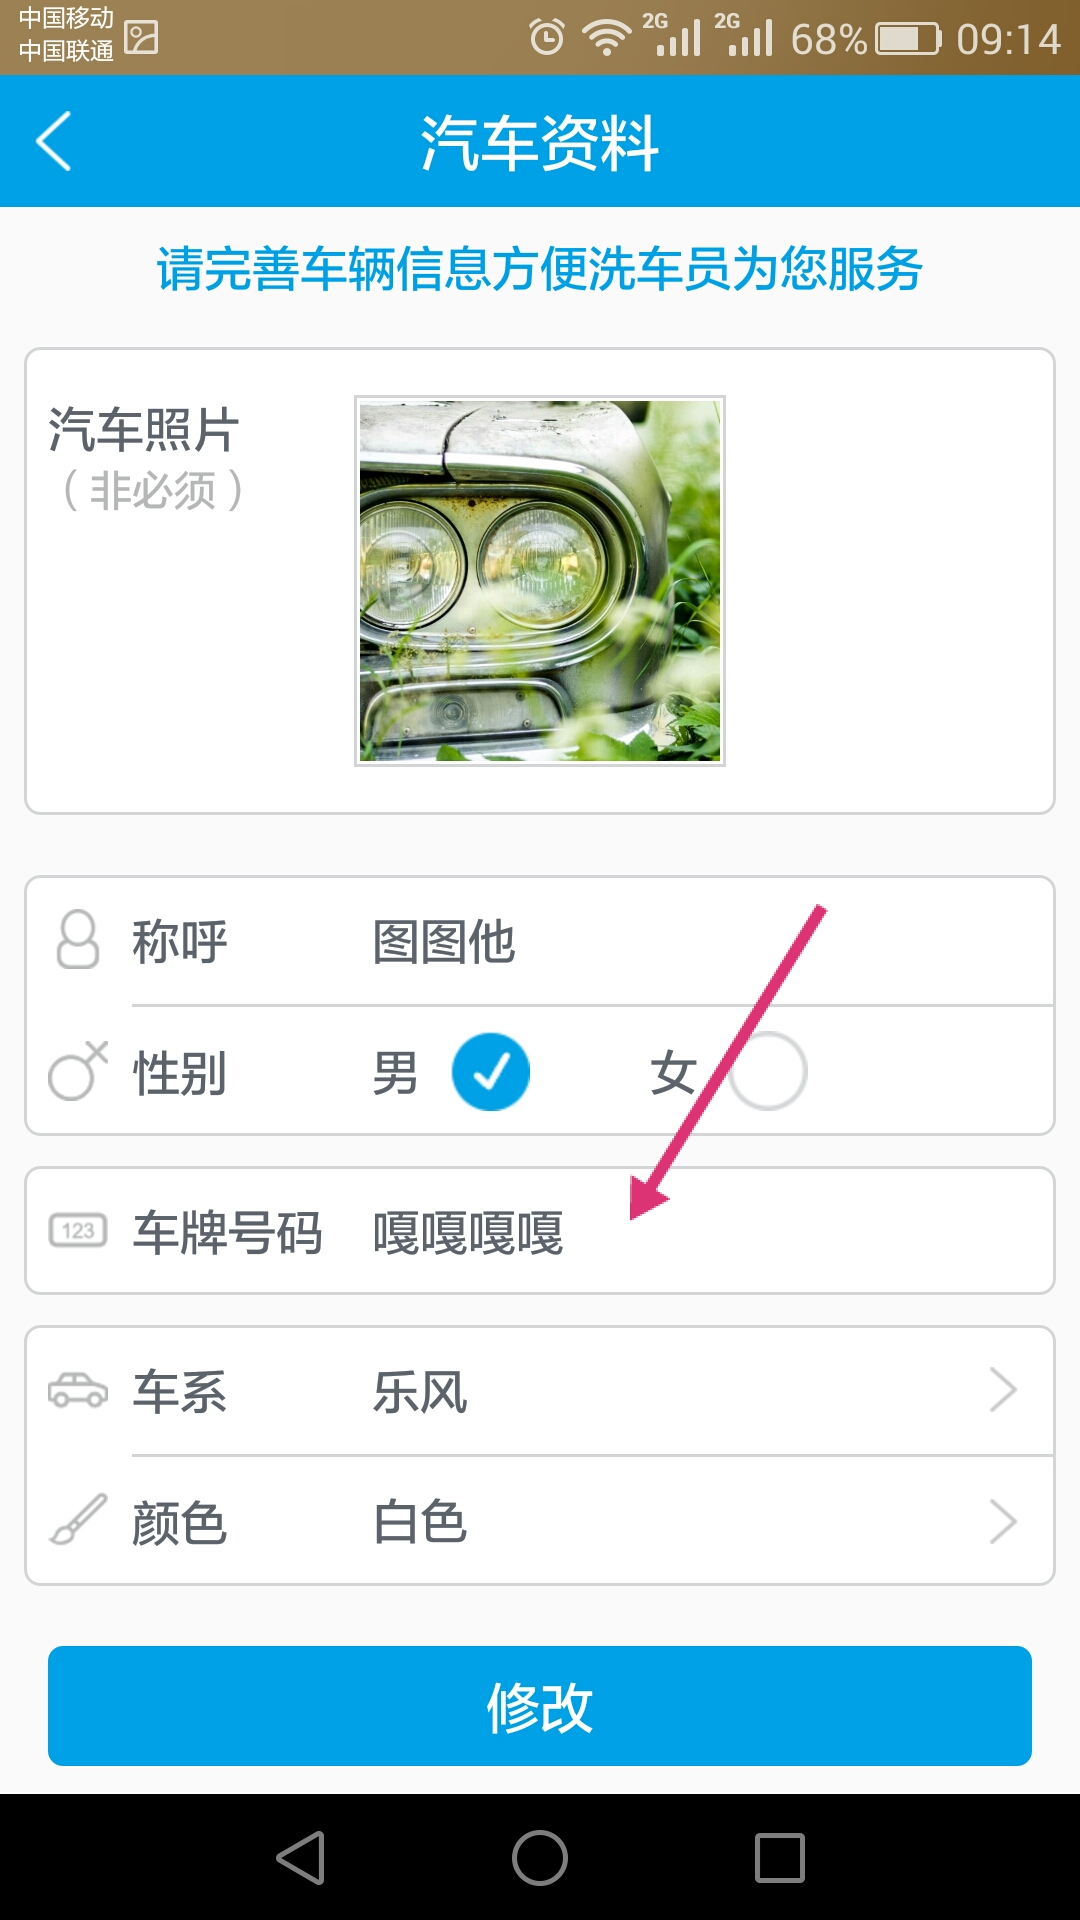textview: (146, 214, 935, 314)
